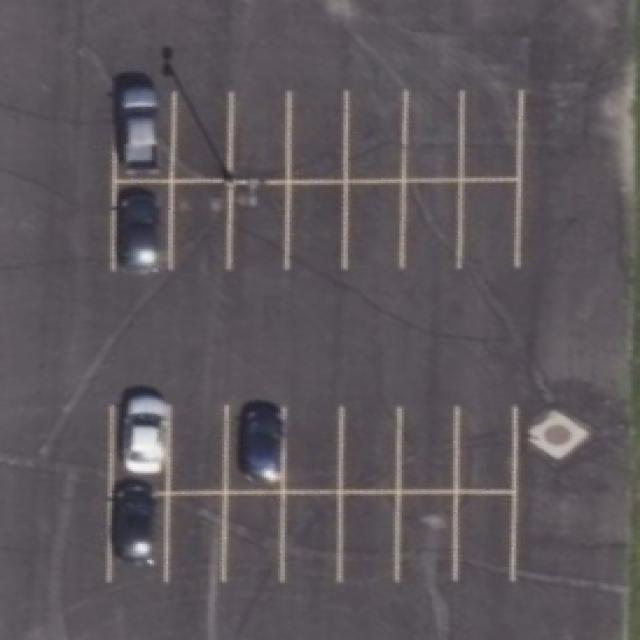Empty: (344, 92, 408, 180), (168, 89, 230, 179), (462, 180, 524, 270), (347, 178, 405, 270), (405, 179, 465, 267), (462, 90, 522, 178), (168, 496, 228, 584), (170, 183, 230, 269), (290, 178, 346, 268), (395, 496, 453, 582), (341, 492, 395, 584), (398, 406, 457, 490), (338, 406, 394, 494), (457, 494, 513, 582), (232, 178, 286, 268), (458, 407, 518, 488), (171, 401, 223, 494), (290, 93, 346, 179), (407, 95, 465, 178), (286, 491, 338, 581), (232, 96, 288, 178), (225, 496, 281, 578), (286, 408, 340, 490)
Parked: (110, 489, 170, 583), (111, 400, 172, 492), (114, 92, 174, 182), (227, 398, 285, 489), (114, 182, 170, 274)
